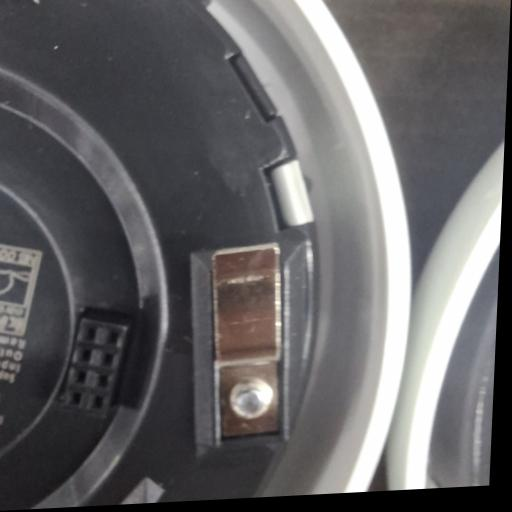yaysiz: (203, 239, 292, 443)
